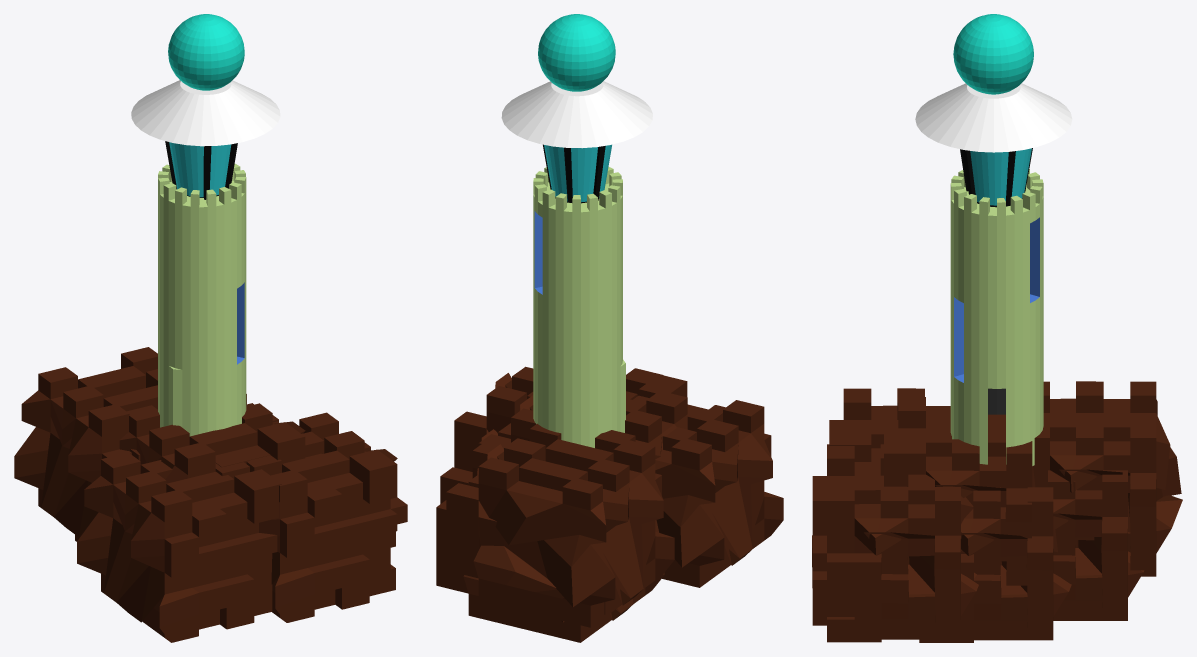
Rendered from faro2.glb.
3 views of the same model, side by side, from view 1: azimuth 30°, elevation 25°; view 2: azimuth 150°, elevation 25°; view 3: azimuth 270°, elevation 25° (orthographic). The views are drawn at different scales.
Parts seen in each view (by area): view 1: Cube.001, Cilindro, Cube.005, Cube.004, Cube, Cilindro.002, Esfera, Cilindro.001; view 2: Cube.004, Cilindro, Cube.001, Cilindro.002, Esfera, Cube.003, Cube, Cube.005, Cilindro.001, Cube.002; view 3: Cube.005, Cilindro, Cube.004, Cube.002, Cube, Cube.003, Cilindro.002, Esfera, Cube.001, Cilindro.001.
Boxes of the visible parts, <box> form: Cube.001: <box>77,450,281,642</box>; Cilindro: <box>158,163,246,436</box>; Cube.005: <box>246,412,407,622</box>; Cube.004: <box>14,347,157,536</box>; Cube: <box>119,394,305,483</box>; Cilindro.002: <box>131,80,280,146</box>; Esfera: <box>168,14,244,90</box>; Cilindro.001: <box>165,141,237,199</box>; Cube.004: <box>446,423,674,627</box>; Cilindro: <box>533,166,625,447</box>; Cube.001: <box>626,374,783,587</box>; Cilindro.002: <box>501,81,652,148</box>; Esfera: <box>538,14,615,91</box>; Cube.003: <box>436,468,664,642</box>; Cube: <box>478,391,687,532</box>; Cube.005: <box>454,366,662,471</box>; Cilindro.001: <box>543,144,611,203</box>; Cube.002: <box>440,423,510,503</box>; Cube.005: <box>812,444,978,642</box>; Cilindro: <box>950,169,1043,465</box>; Cube.004: <box>1033,381,1182,576</box>; Cube.002: <box>919,487,1071,642</box>; Cube: <box>884,397,1035,585</box>; Cube.003: <box>1000,470,1144,620</box>; Cilindro.002: <box>915,83,1072,152</box>; Esfera: <box>953,14,1033,94</box>; Cube.001: <box>829,388,950,461</box>; Cilindro.001: <box>960,148,1032,207</box>.
Bounding box in the file's own units: 3.05 × 5.91 × 3.4.
